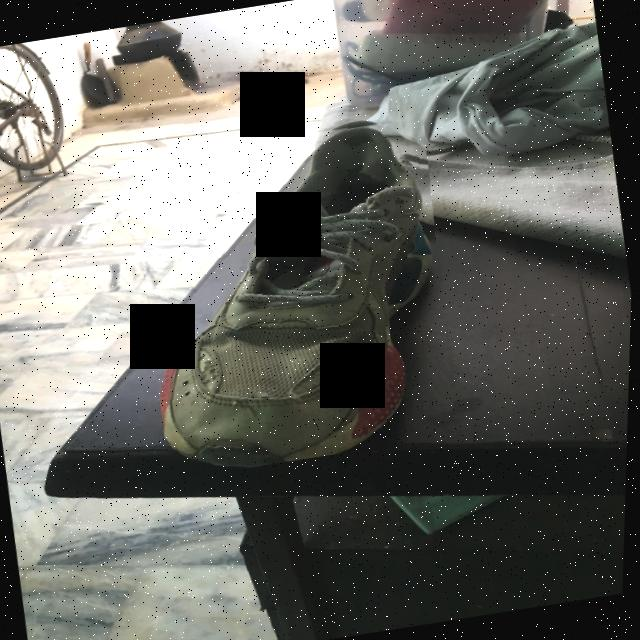shoe: (122, 110, 474, 480)
